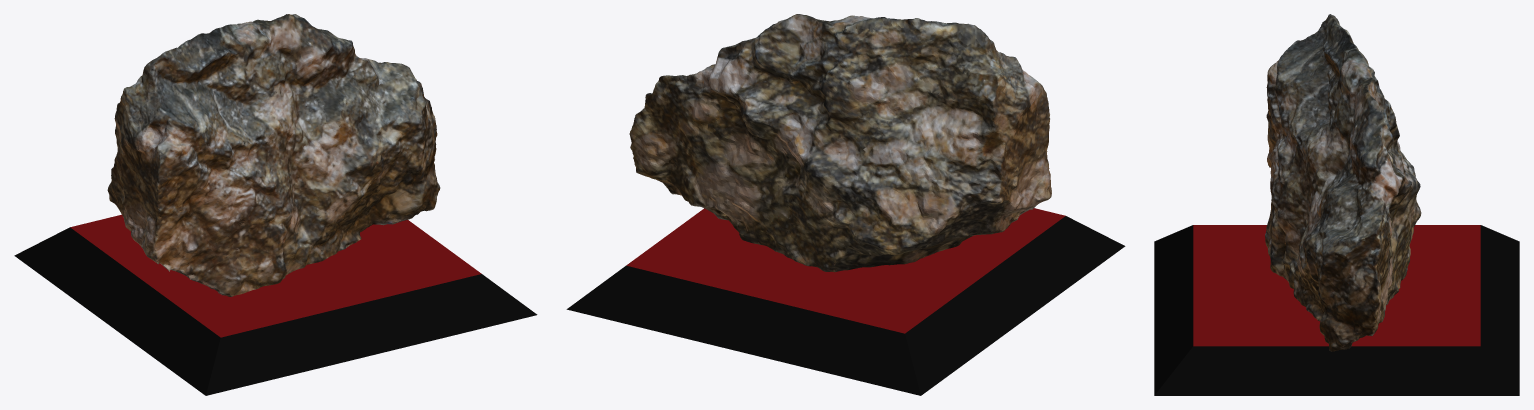
The model's file is Augen-transformed.glb.
The picture shows the model from 3 angles, left to right: view 1: azimuth 30°, elevation 25°; view 2: azimuth 150°, elevation 25°; view 3: azimuth 270°, elevation 25°; orthographic projection. The views are drawn at different scales.
Visible parts, largest first — view 1: texturedMesh.001; view 2: texturedMesh.001; view 3: texturedMesh.001.
Boxes of the visible parts, bbox=[...] form: texturedMesh.001: bbox=[14, 14, 537, 395]; texturedMesh.001: bbox=[566, 14, 1125, 395]; texturedMesh.001: bbox=[1154, 14, 1519, 395].
Bounding box in the file's own units: 10.47 × 7.62 × 10.
Materials: 5 (3 with a texture image).
